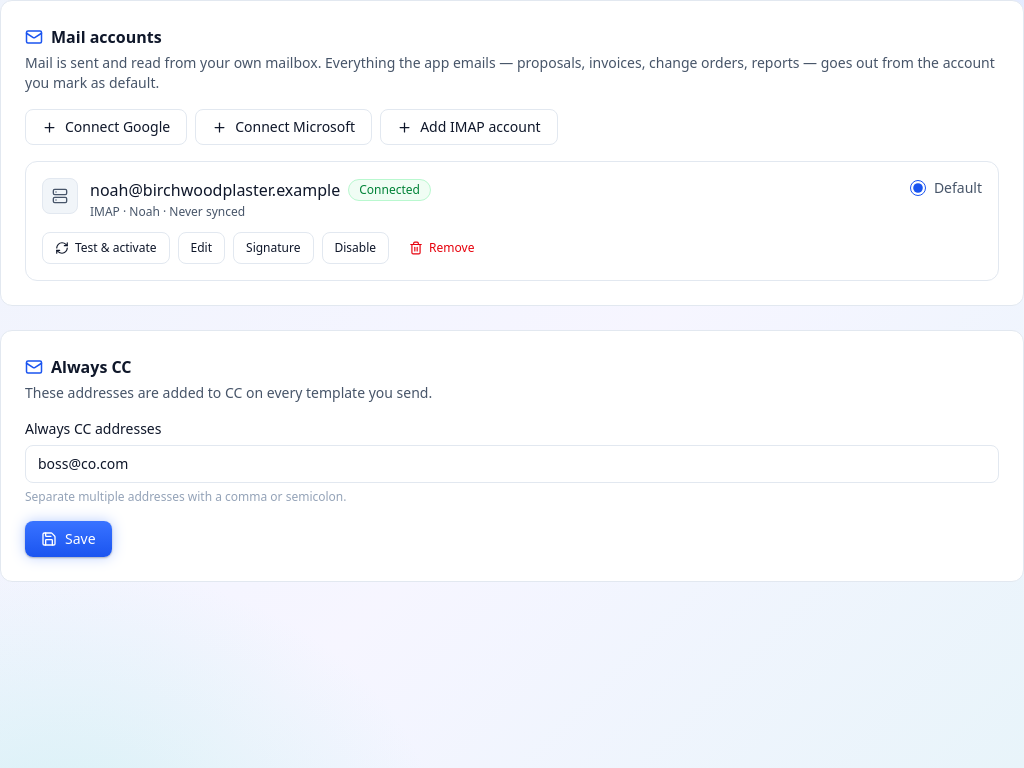
Test case: MailAccountsTab › opens the IMAP form for Add and for Edit
Click the button "Add IMAP account" at (469, 127), box x1=380 y1=109 x2=558 y2=145
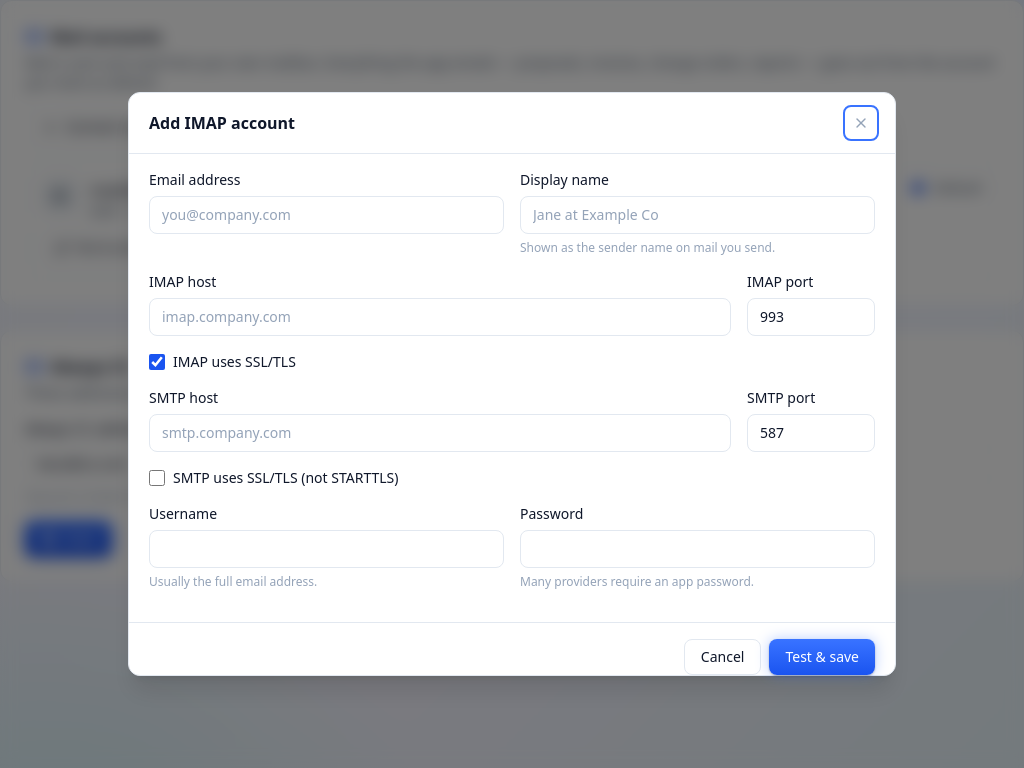
Check: the field labelled "IMAP host" is empty, box x1=149 y1=298 x2=731 y2=336
Click the button "Cancel" at (723, 657), box x1=684 y1=639 x2=761 y2=675
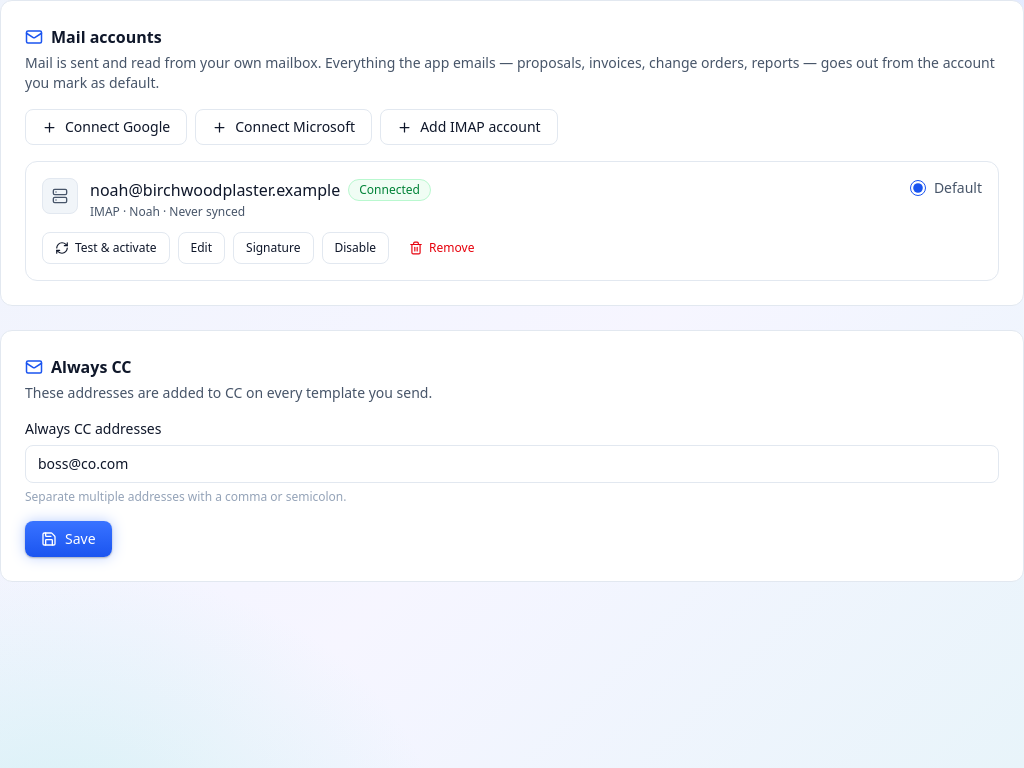
Check: the label labelled "IMAP host" is gone
Click the button "Edit" at (201, 248), box x1=178 y1=232 x2=225 y2=264
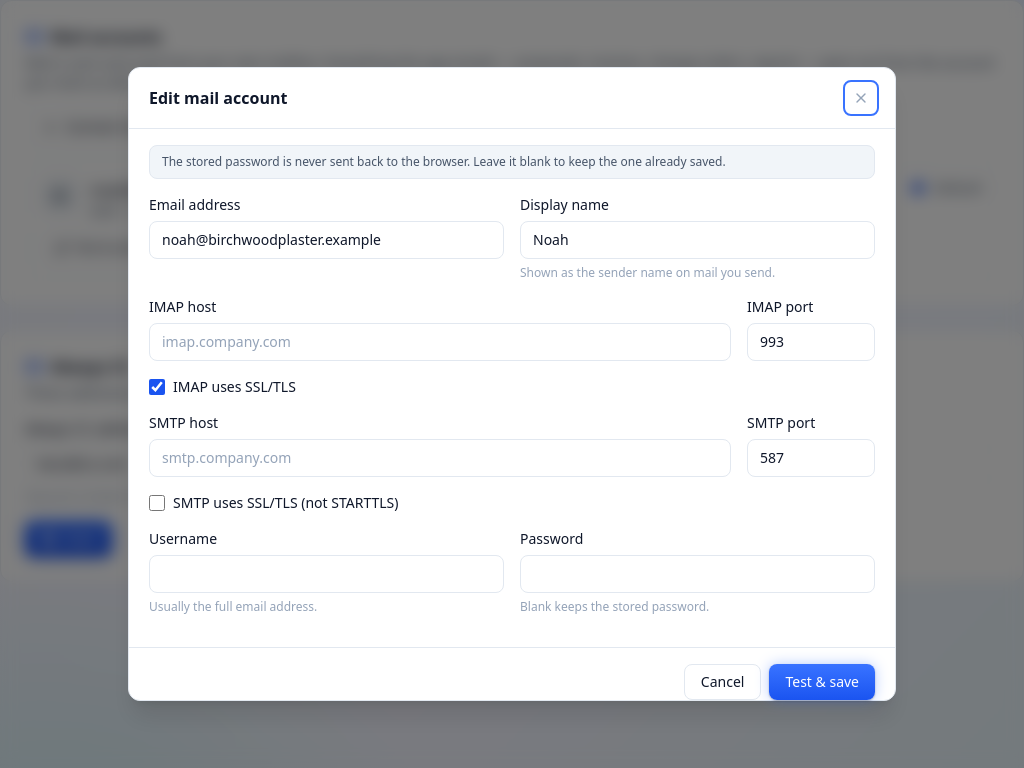
Check: the field labelled "Email address" holds "noah@birchwoodplaster.example", box x1=149 y1=221 x2=504 y2=259
